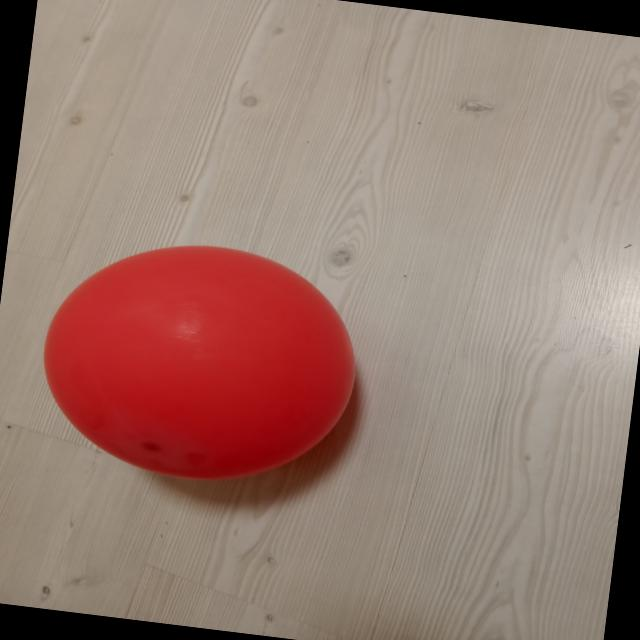balloon: (43, 245, 354, 479)
